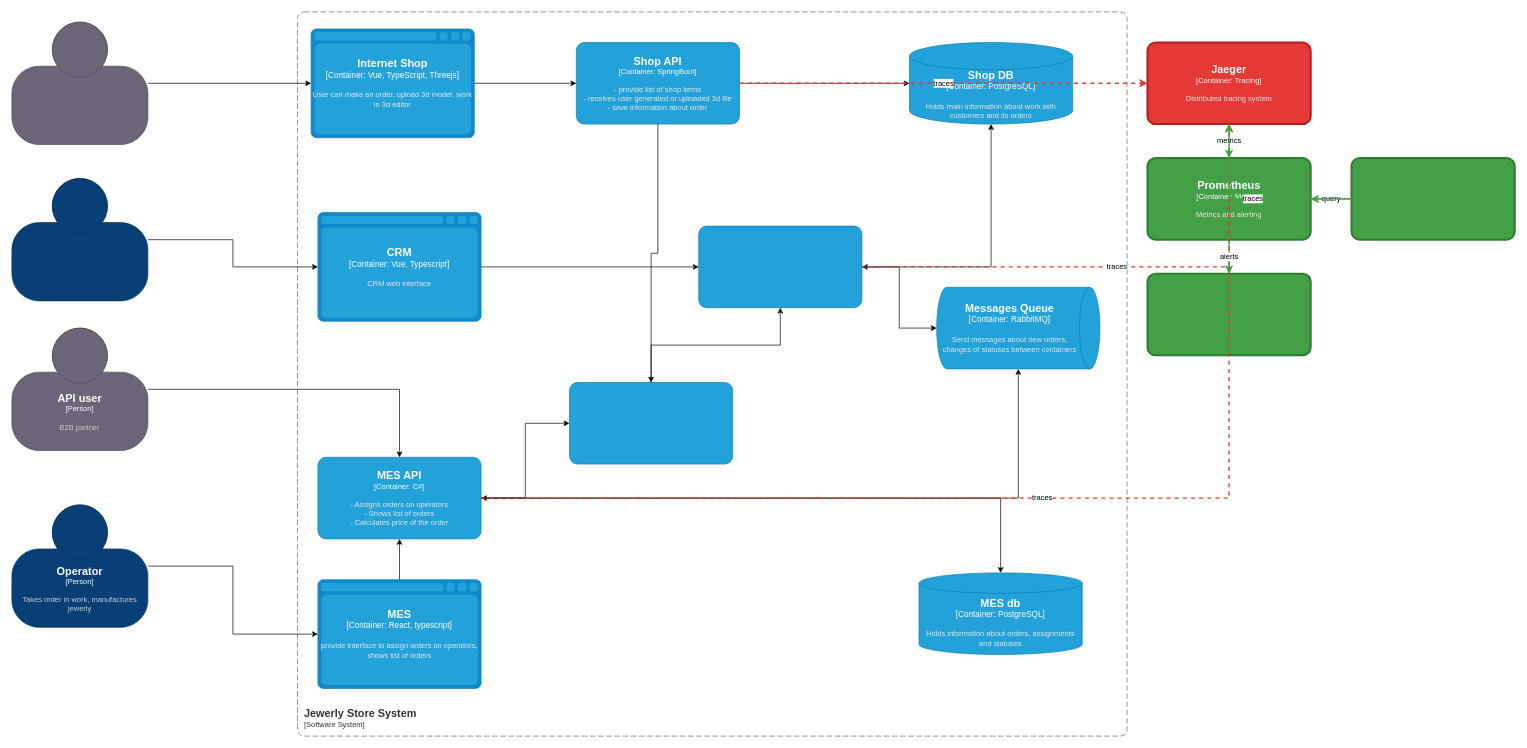
This 1527x748 diagram has some shape labels left out. The box of each missing label's shape, as (x1, y1, x2, y2) in pixels:
3d files storage [Container: S3-based storage] stores 3d files: (569, 382, 733, 464)
Alertmanager [Container: Alerts] Alert routing: (1146, 272, 1311, 356)
CRM API [Container: SpringBoot] CRM backend: (698, 225, 862, 308)
Customer [Person] External customer: (11, 21, 148, 144)
Grafana [Container: Dashboards] Visualization: (1350, 157, 1515, 240)
Seller [Person] Operates with order, confirms manufacturing: (11, 178, 148, 301)
